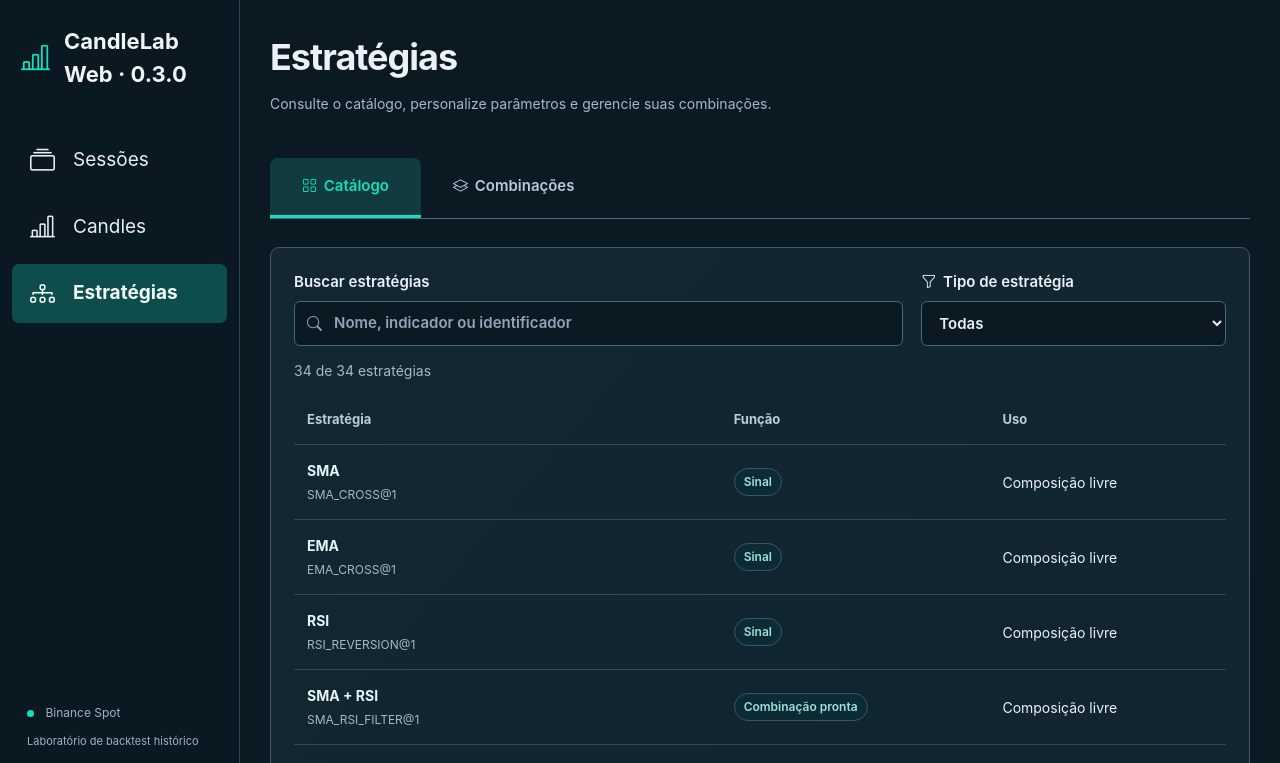
it: preserva busca e tipo ao voltar dos detalhes pelo link Voltar à lista de estratégias
Expected: the search field labelled "Buscar estratégias" is shown, [294,301,903,346]
Select "Combinações prontas" in the dropdown labelled "Tipo de estratégia" at coordinates (1074, 324), box [921,301,1226,346]
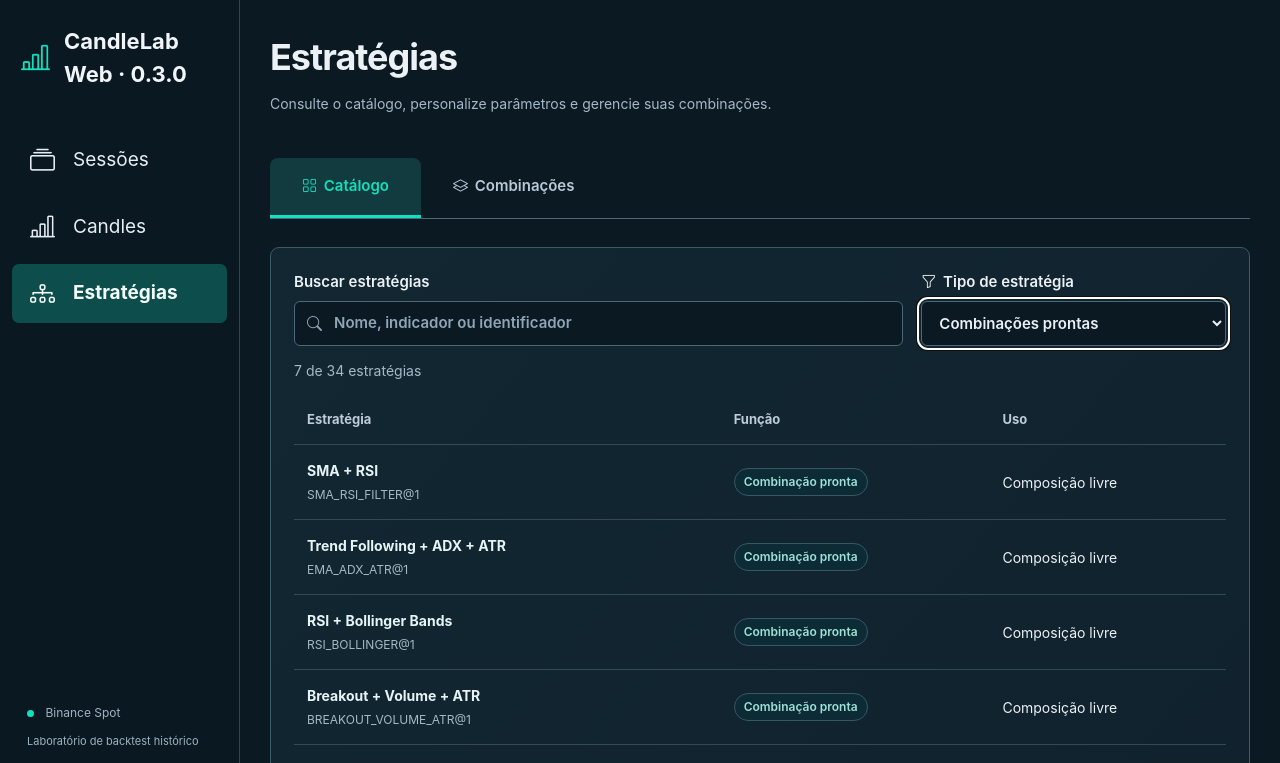
Type "ADX" into the search field labelled "Buscar estratégias" at coordinates (599, 323), box [294,301,903,346]
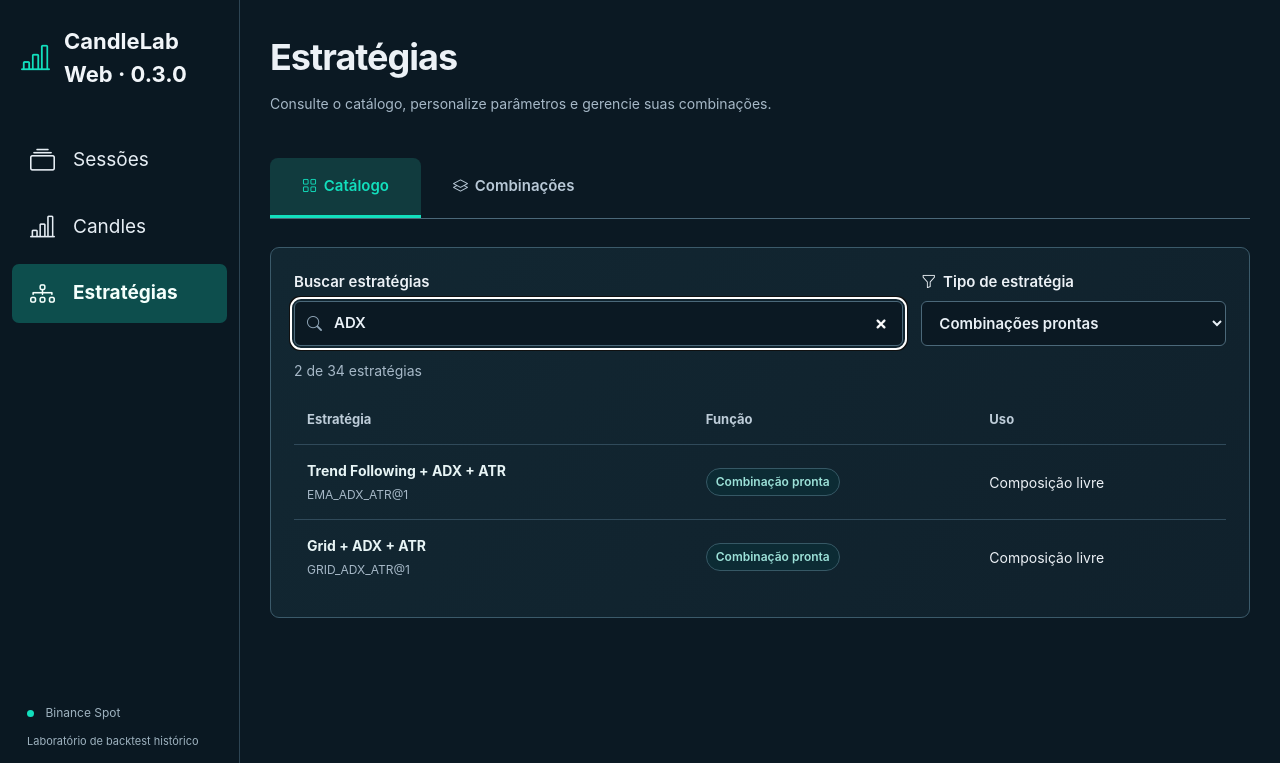
Click the link "Trend Following + ADX + ATR" at coordinates (406, 471), box [307,462,506,479]
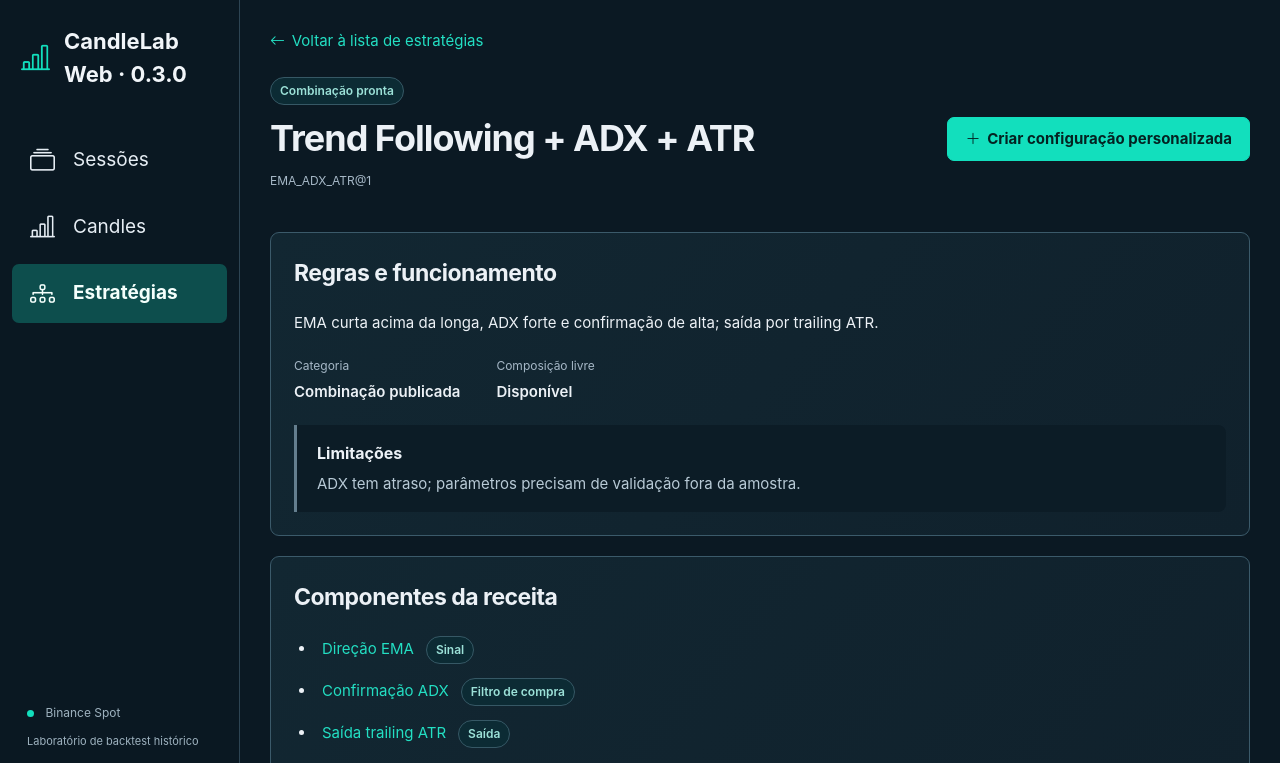
Expected: the heading "Trend Following + ADX + ATR" is shown, [270,116,754,160]
Click the link "Voltar à lista de estratégias" at coordinates (377, 41), box [270,30,483,52]
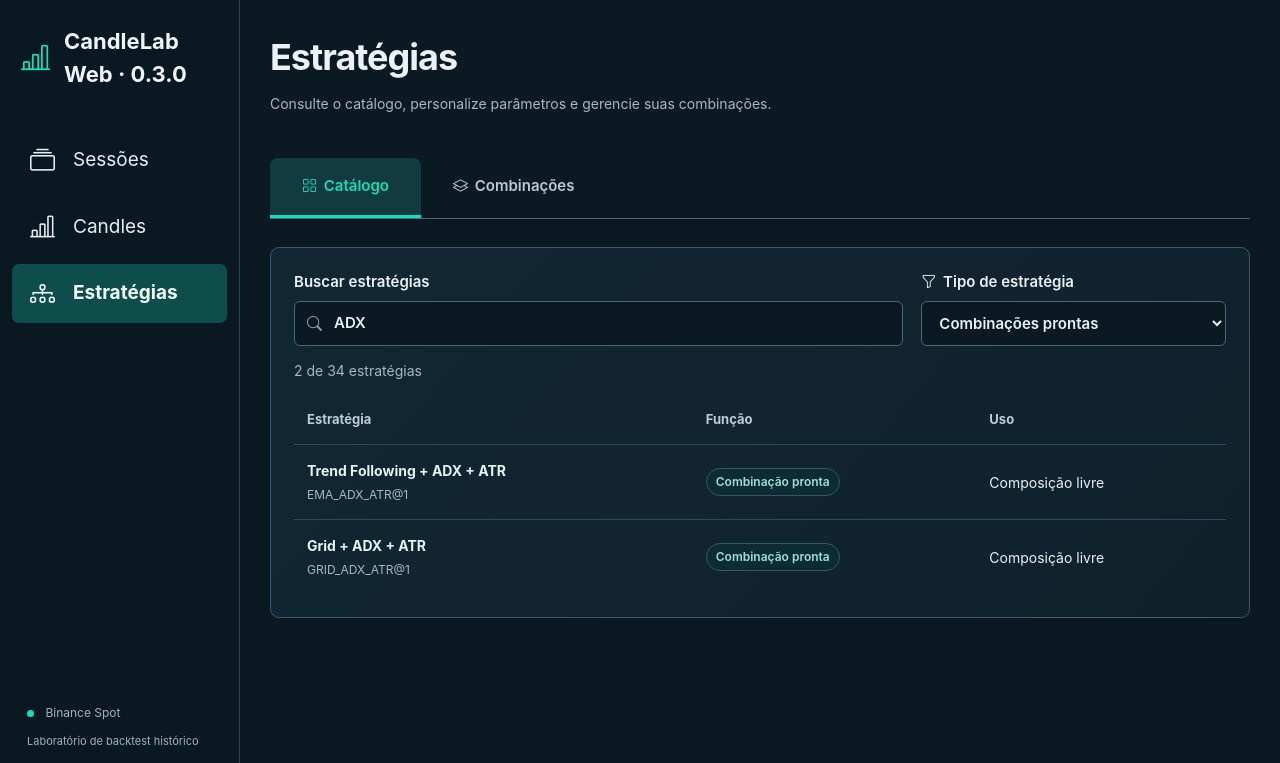
Expected: the search field labelled "Buscar estratégias" holds "ADX", [294,301,903,346]
Expected: the dropdown labelled "Tipo de estratégia" shows "Combinações prontas", [921,301,1226,346]
Expected: the link "Grid + ADX + ATR" is shown, [307,537,426,554]
